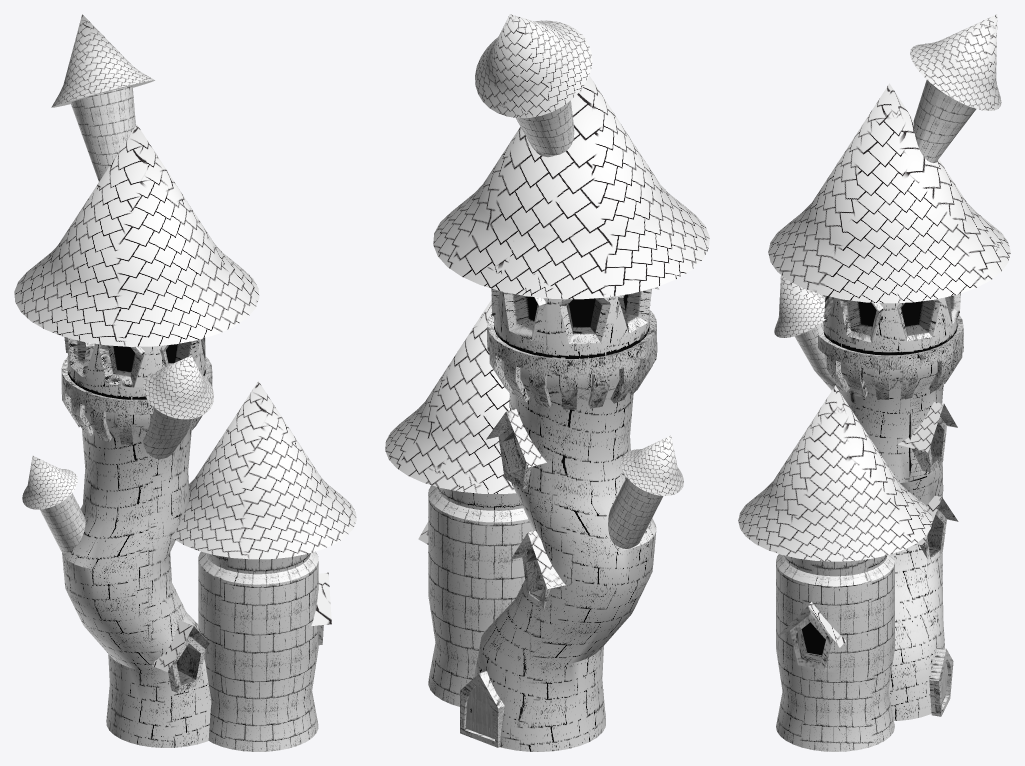
File: Tower.fbx
3 renders of one model, left to right at view 1: azimuth 30°, elevation 25°; view 2: azimuth 150°, elevation 25°; view 3: azimuth 270°, elevation 25°, orthographic. The views are drawn at different scales.
Visible parts, largest first — view 1: Tower; view 2: Tower; view 3: Tower.
Boxes of the visible parts, bbox=[...] form: Tower: bbox=[14, 14, 356, 751]; Tower: bbox=[385, 14, 709, 751]; Tower: bbox=[738, 14, 1010, 751].
Size of the model in its own units: 436 by 365 by 986.
